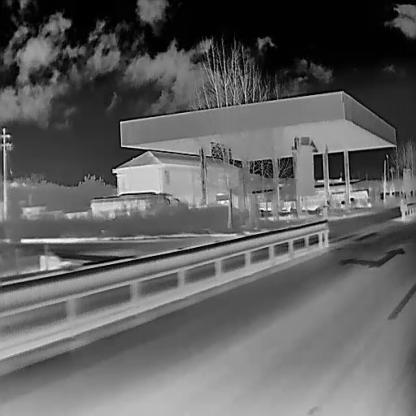bus: (89, 190, 179, 218), (329, 187, 372, 208)
